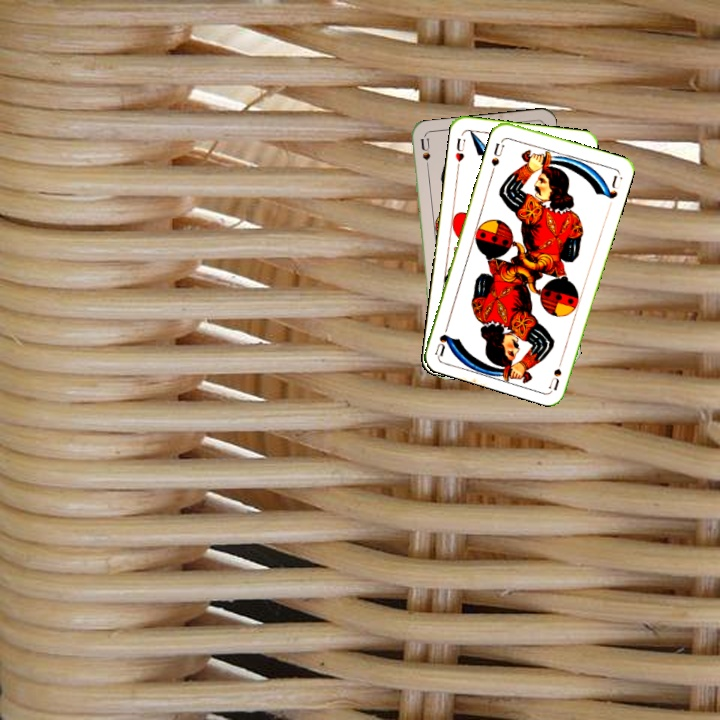HU: (451, 134, 468, 164)
SU: (545, 351, 566, 392), (415, 135, 433, 176), (487, 135, 507, 169)
